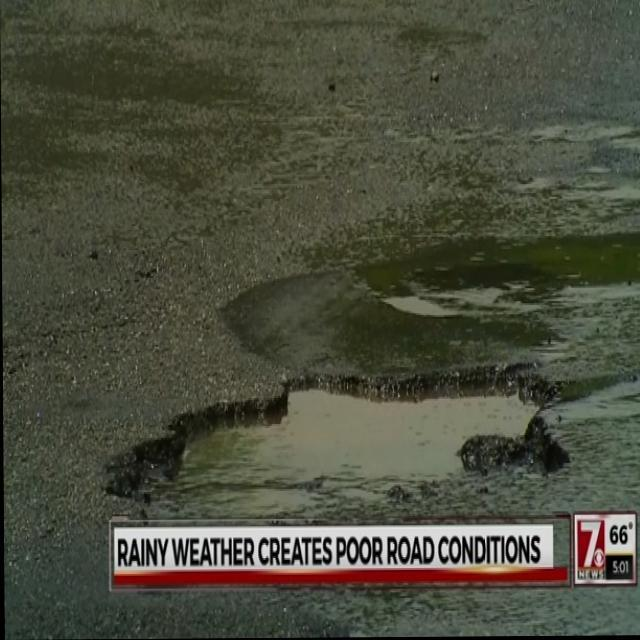Pothole: (107, 373, 567, 525)
